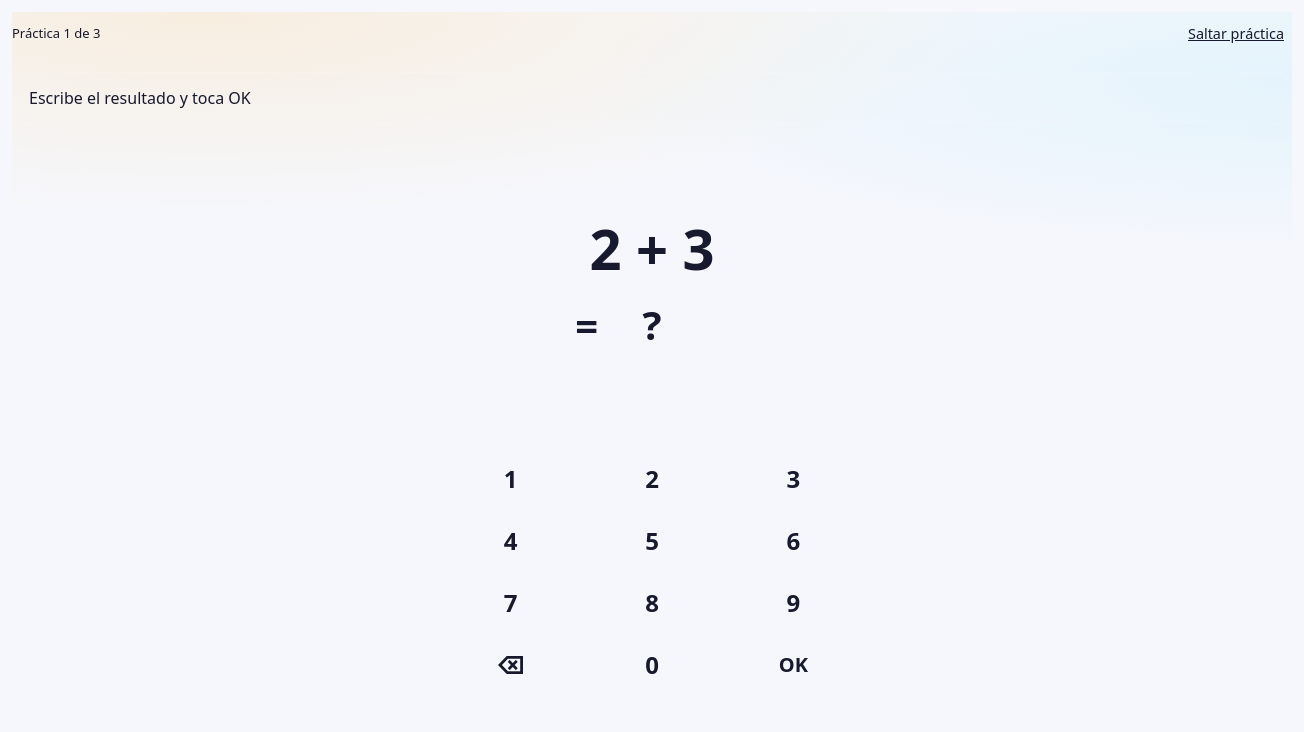
Test case: Saltar is only offered in round 3
What coordinates should you click on to do the following:
click the button "5"
I would click on:
 (652, 541)
Its box is [585,514,719,568].
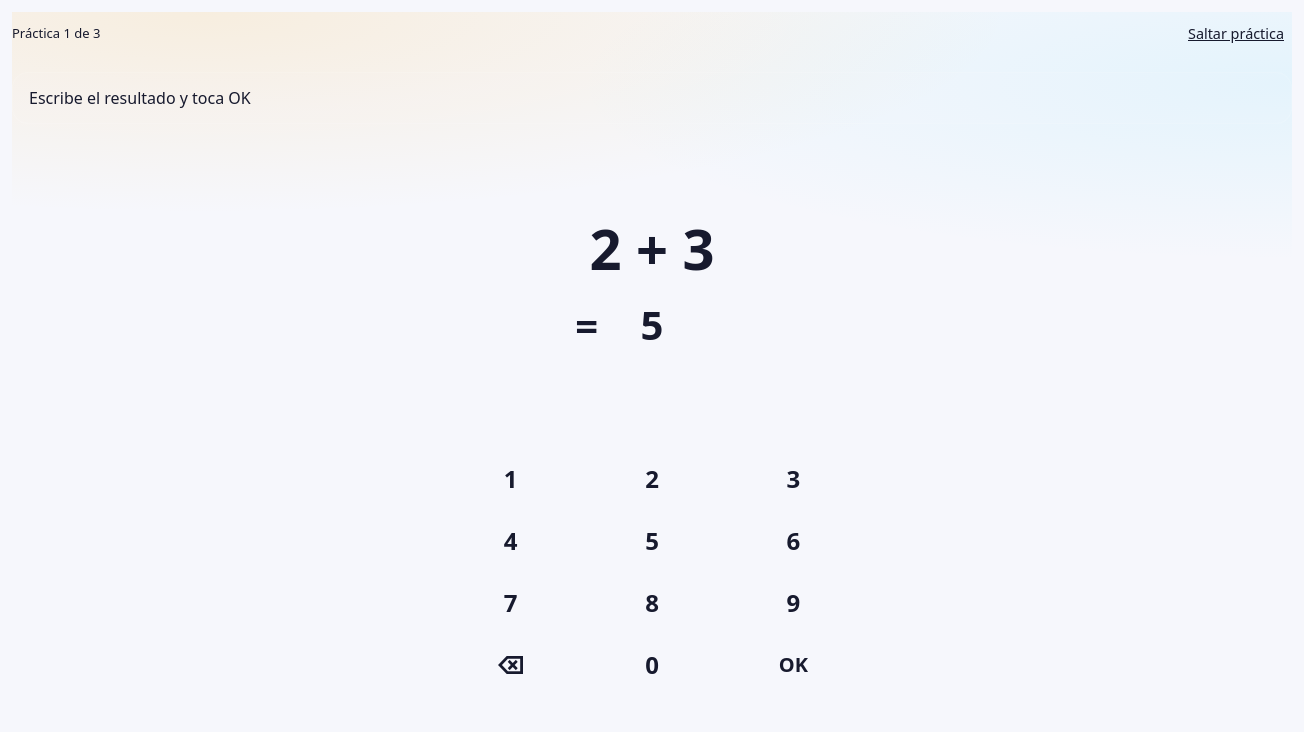
What coordinates should you click on to do the following:
click the button "OK"
I would click on:
 (793, 665)
Its box is [727,638,860,692].
Wait 700 ms
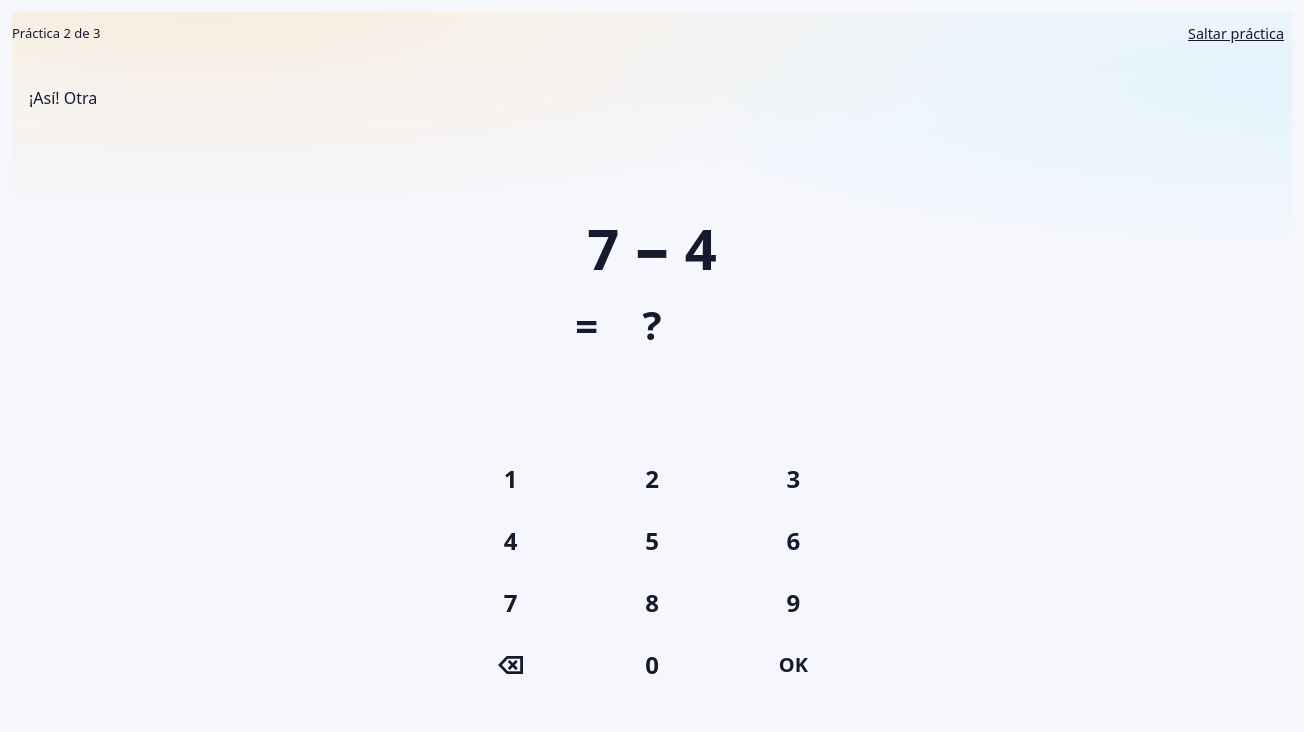
What coordinates should you click on to do the following:
click the button "3"
I would click on:
 (793, 479)
Its box is [727,452,860,506].
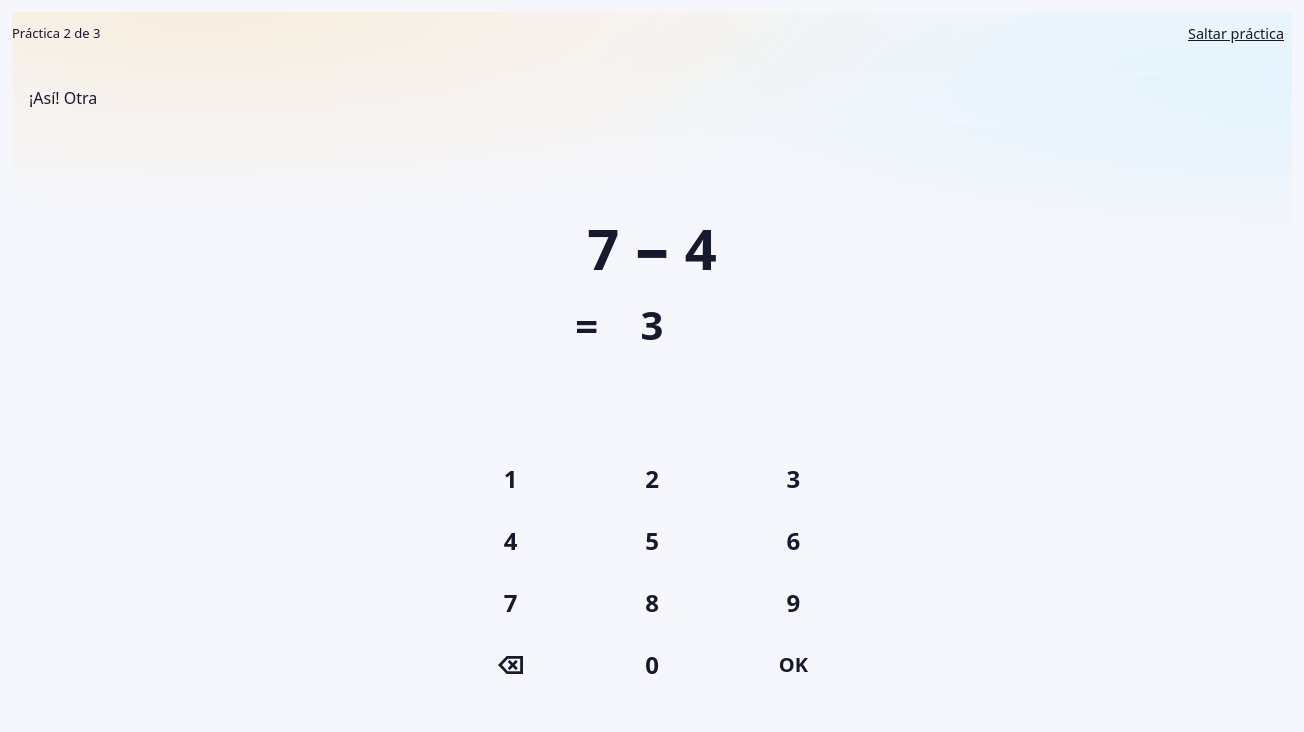
What coordinates should you click on to do the following:
click the button "OK"
I would click on:
 (793, 665)
Its box is [727,638,860,692].
Wait 700 ms
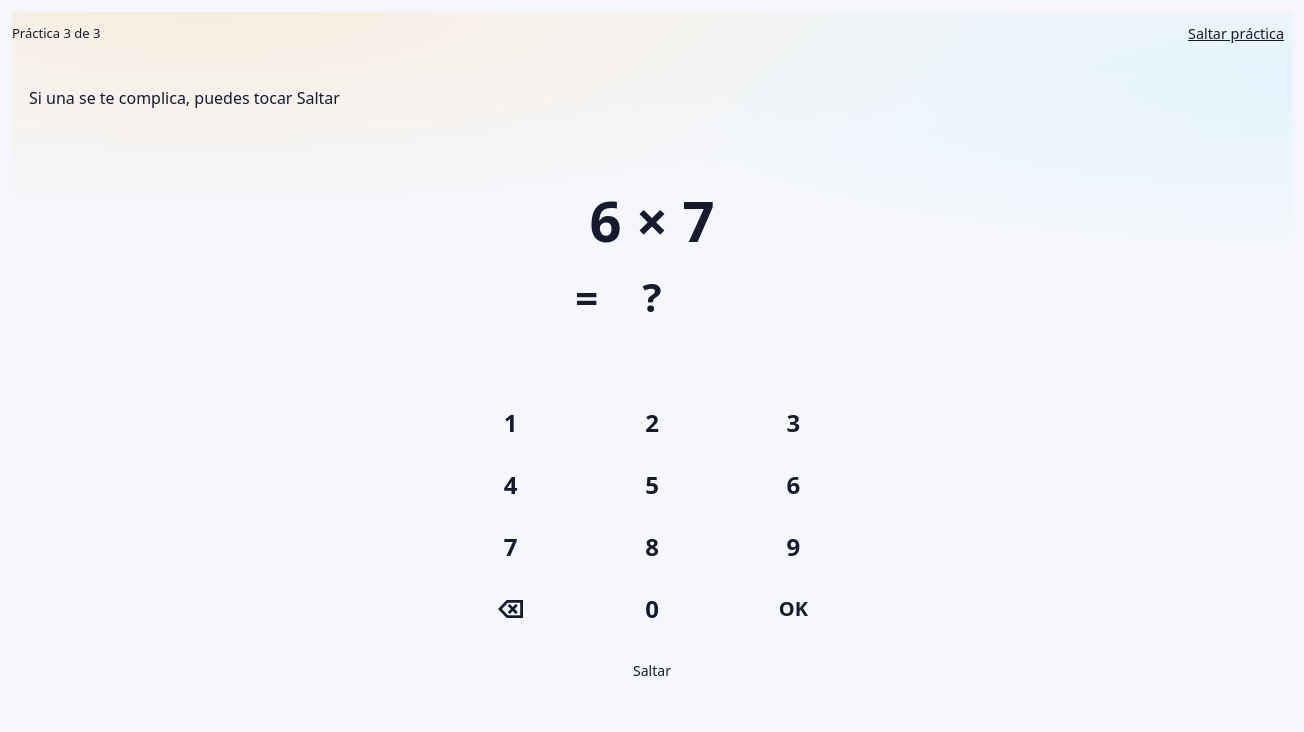
Expected: the button "Saltar" is shown, [613,648,691,692]
